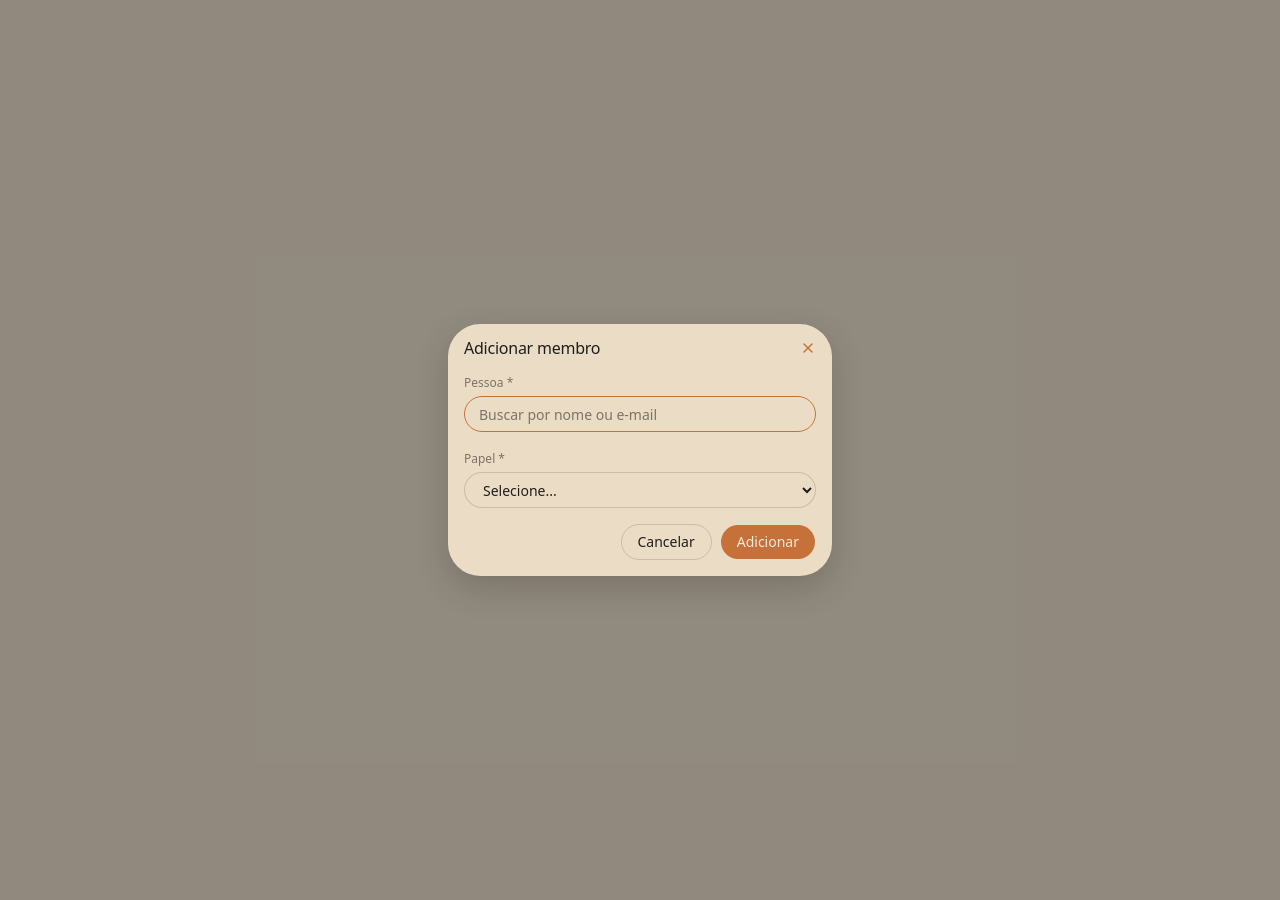
Test: AddMemberDialog › lists the organization members the API returned, by name and email
This screenshot has width=1280, height=900.
Click the dropdown labelled "Pessoa *".
click(640, 414)  # box x1=464 y1=396 x2=816 y2=432
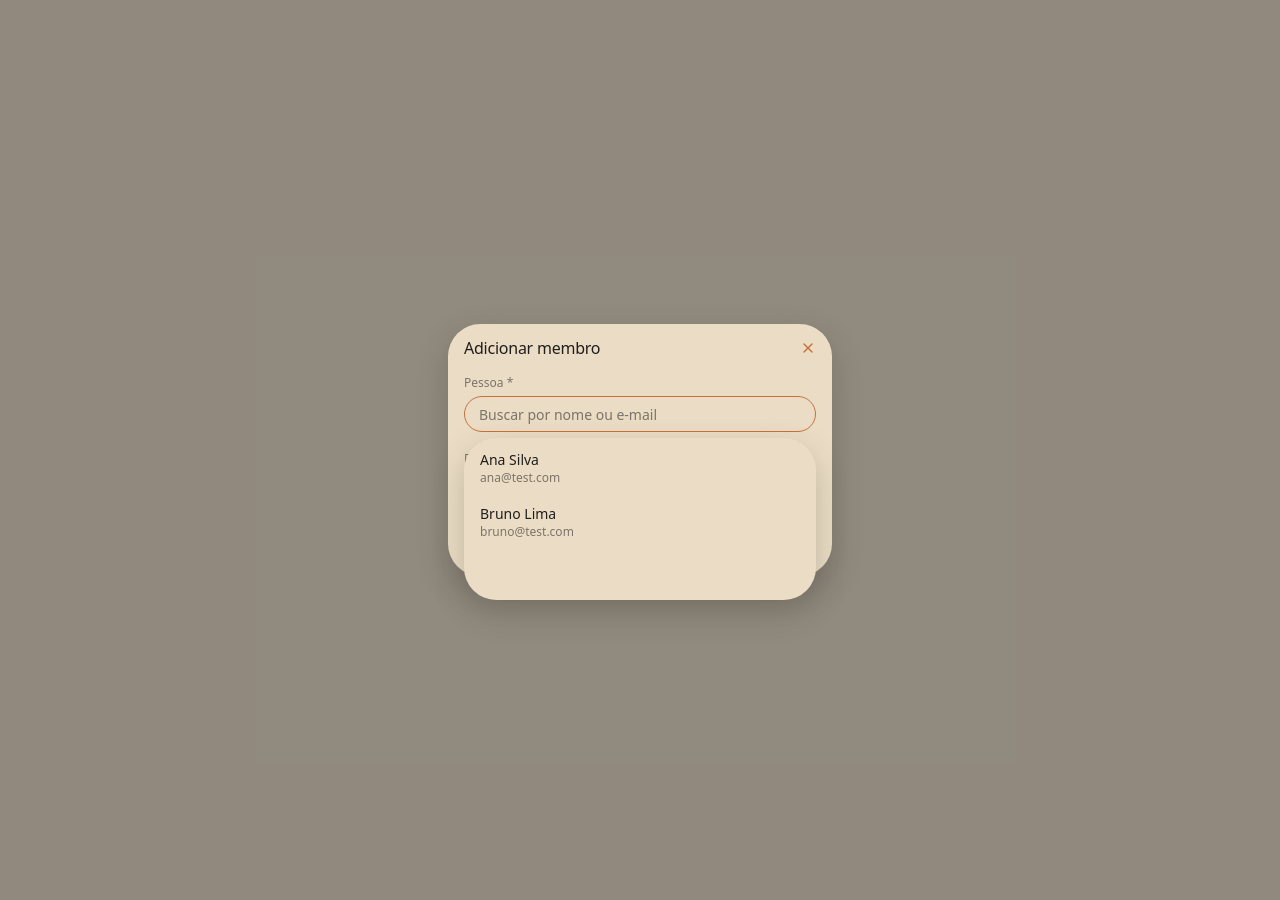
Check: the text "Ana Silva" is shown, box x1=480 y1=450 x2=539 y2=470
Check: the text "bruno@test.com" is shown, box x1=480 y1=524 x2=574 y2=540
